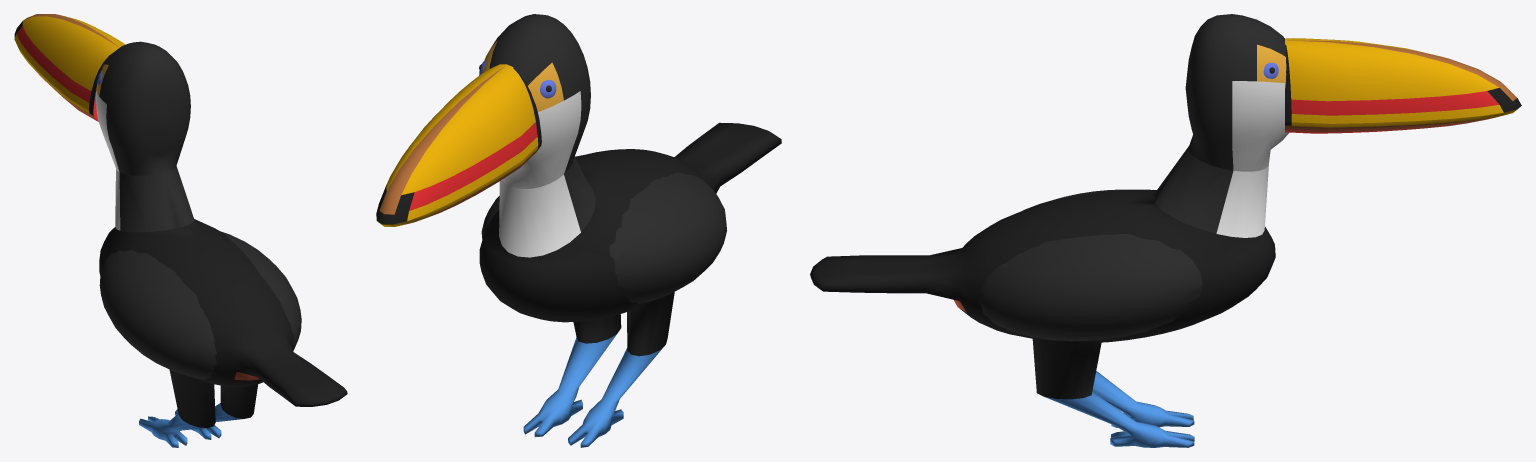
Rendered from tucan2.fbx.
The picture shows the model from 3 angles, left to right: view 1: azimuth 30°, elevation 25°; view 2: azimuth 150°, elevation 25°; view 3: azimuth 270°, elevation 25°; orthographic projection. The views are drawn at different scales.
Visible parts, largest first — view 1: Cuerpo, Cabeza, Alas, Madibula; view 2: Cuerpo, Cabeza, Alas, Madibula; view 3: Cuerpo, Cabeza, Alas, Madibula.
Part boxes in pixels (bbox=[...]): Cuerpo: bbox=[99, 166, 347, 447]; Cabeza: bbox=[14, 14, 190, 175]; Alas: bbox=[99, 231, 301, 379]; Madibula: bbox=[17, 46, 98, 121]; Cuerpo: bbox=[479, 122, 781, 447]; Cabeza: bbox=[376, 14, 590, 224]; Alas: bbox=[481, 155, 726, 303]; Madibula: bbox=[377, 142, 541, 226]; Cuerpo: bbox=[810, 146, 1275, 447]; Cabeza: bbox=[1185, 14, 1521, 171]; Alas: bbox=[978, 189, 1202, 341]; Madibula: bbox=[1285, 108, 1518, 133].
Bounding box in the file's own units: 272 × 582 × 904.
